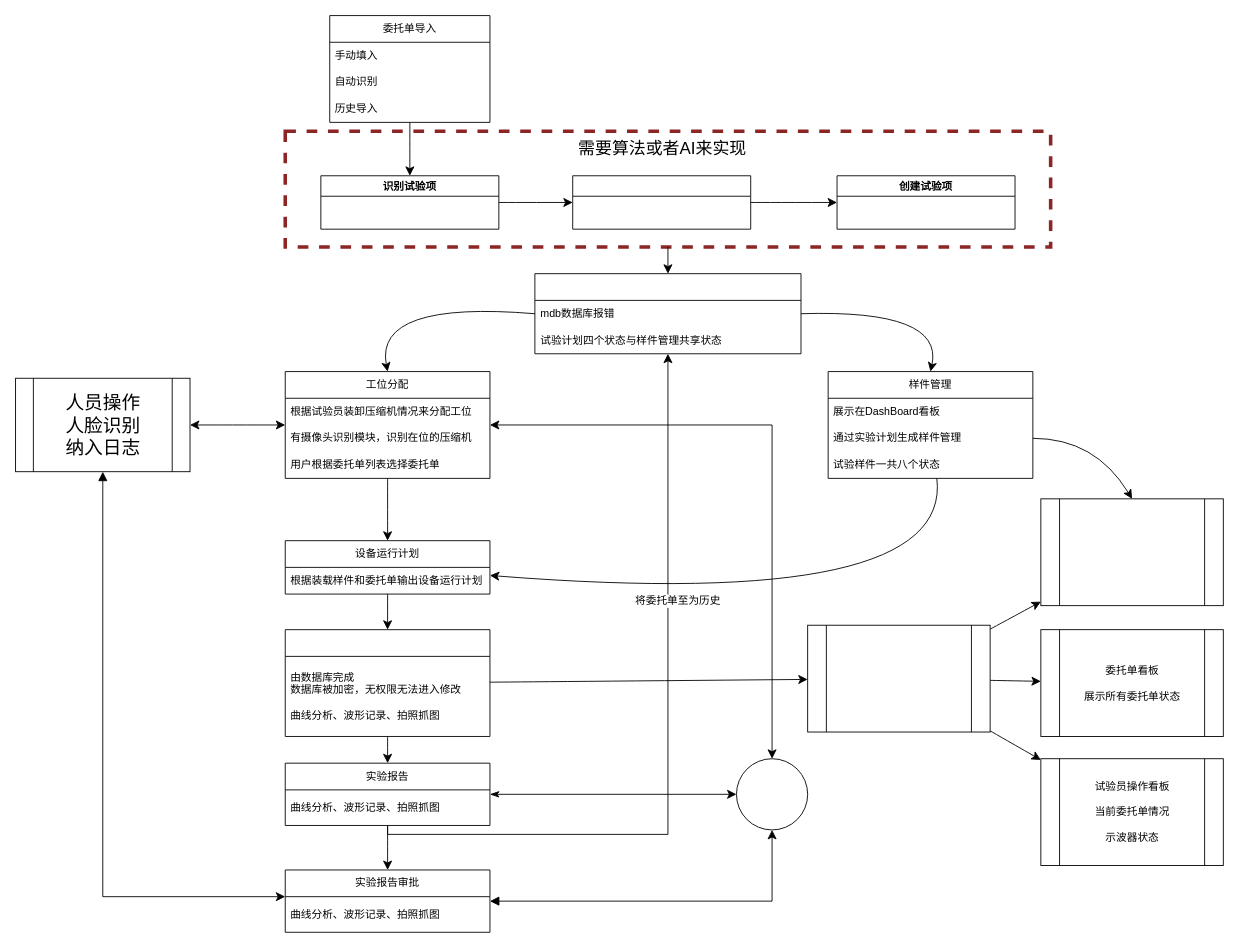
Image size: 1239x948. Some labels were removed from this diagram. Each missing label, with the box of its shape:
DashBoard看板 展示六个工位整体的情况 样件管理: (1040, 498, 1223, 606)
压缩机抓拍: (736, 758, 808, 830)
实验数据采集: (284, 629, 490, 736)
实验计划生成: (534, 273, 801, 354)
看板展示试验 实验进度 实验状态 示波器: (807, 624, 990, 732)
自动结构化: (572, 175, 751, 229)
